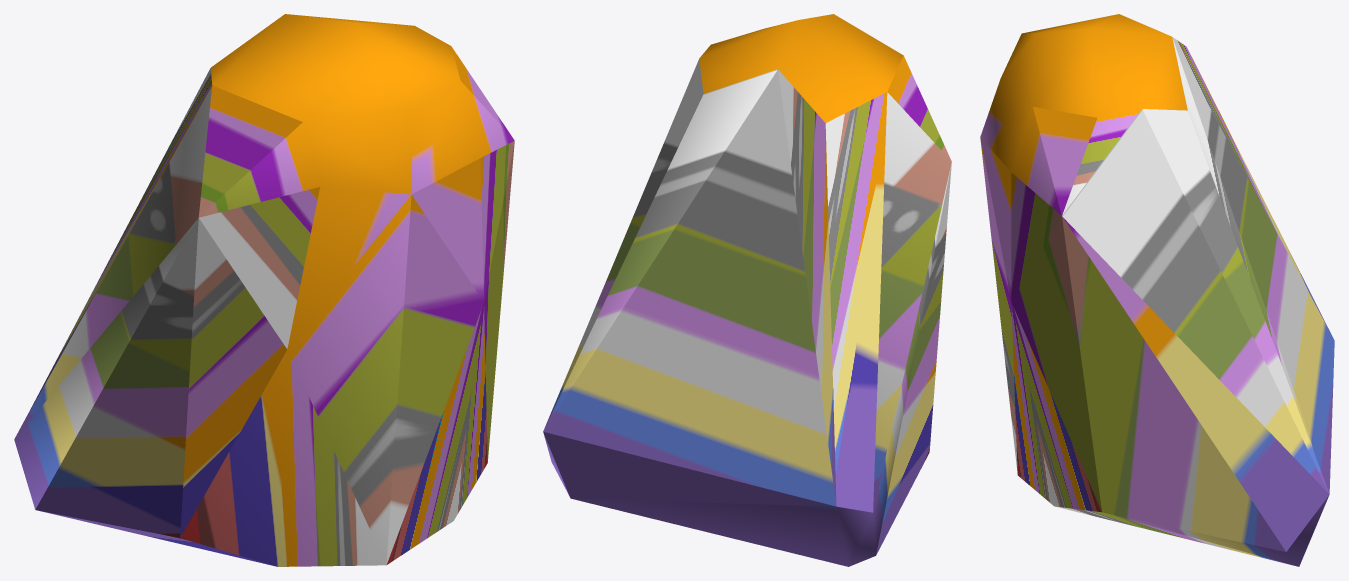
The model's file is Seated_Doll_Collider.fbx.
3 renders of one model, left to right at view 1: azimuth 30°, elevation 25°; view 2: azimuth 150°, elevation 25°; view 3: azimuth 270°, elevation 25°, orthographic. The views are drawn at different scales.
Parts seen in each view (by area): view 1: Seated_Doll; view 2: Seated_Doll; view 3: Seated_Doll.
Boxes of the visible parts, bbox=[...] form: Seated_Doll: bbox=[14, 14, 514, 566]; Seated_Doll: bbox=[543, 14, 951, 566]; Seated_Doll: bbox=[980, 14, 1334, 566].
Size of the model in its own units: 2.05 by 2.59 by 1.77.
